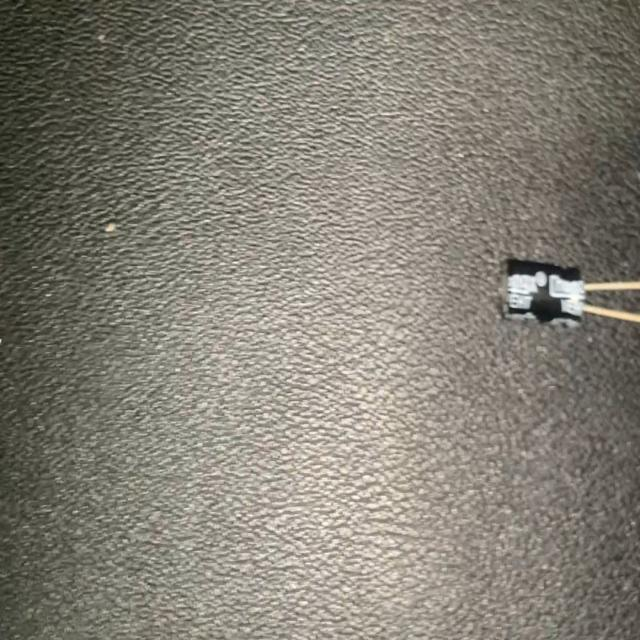capacitor: (496, 253, 640, 326)
